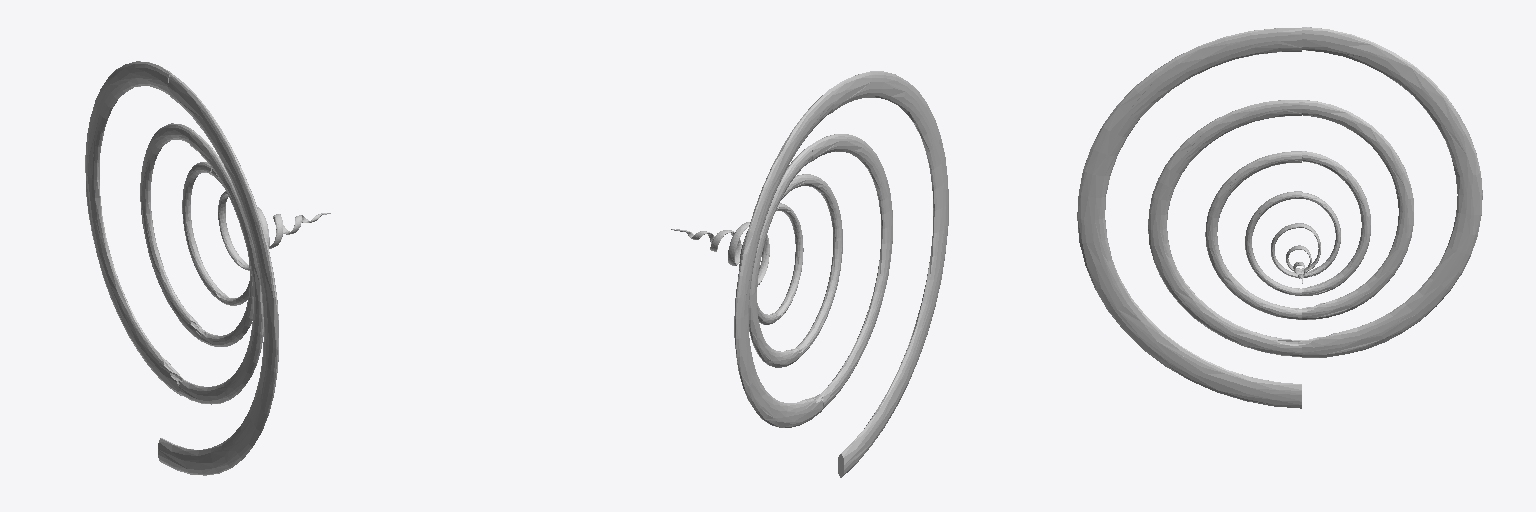
The model's file is tinker 1.obj.
3 renders of one model, left to right at view 1: azimuth 30°, elevation 25°; view 2: azimuth 150°, elevation 25°; view 3: azimuth 270°, elevation 25°, orthographic.
Visible parts, largest first — view 1: obj_0; view 2: obj_0; view 3: obj_0.
Part boxes in pixels (left/top/right/bottom): obj_0: left=85, top=61, right=330, bottom=475; obj_0: left=671, top=71, right=948, bottom=477; obj_0: left=1077, top=27, right=1482, bottom=408.
Size of the model in its own units: 205 by 433 by 412.